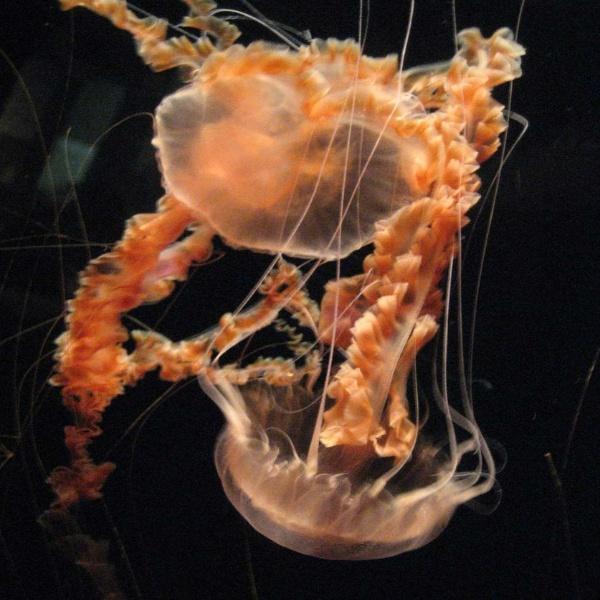Jellyfish: (0, 0, 531, 599)
